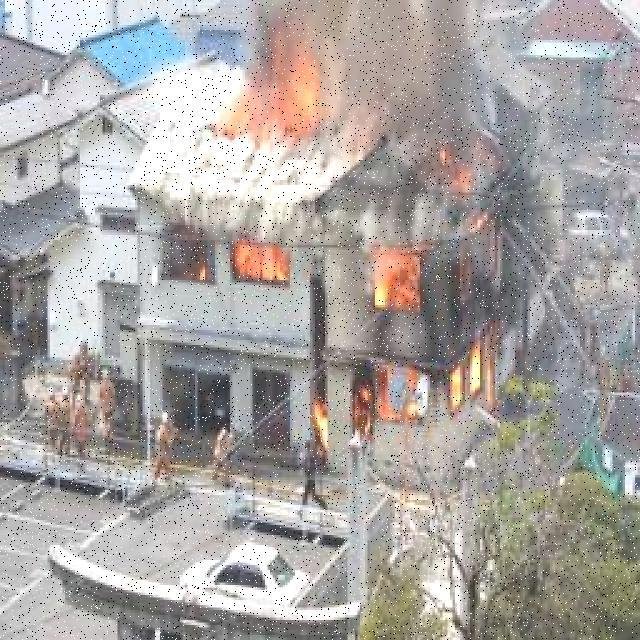Fire: (304, 175, 524, 466), (210, 37, 329, 147), (195, 242, 283, 286)
